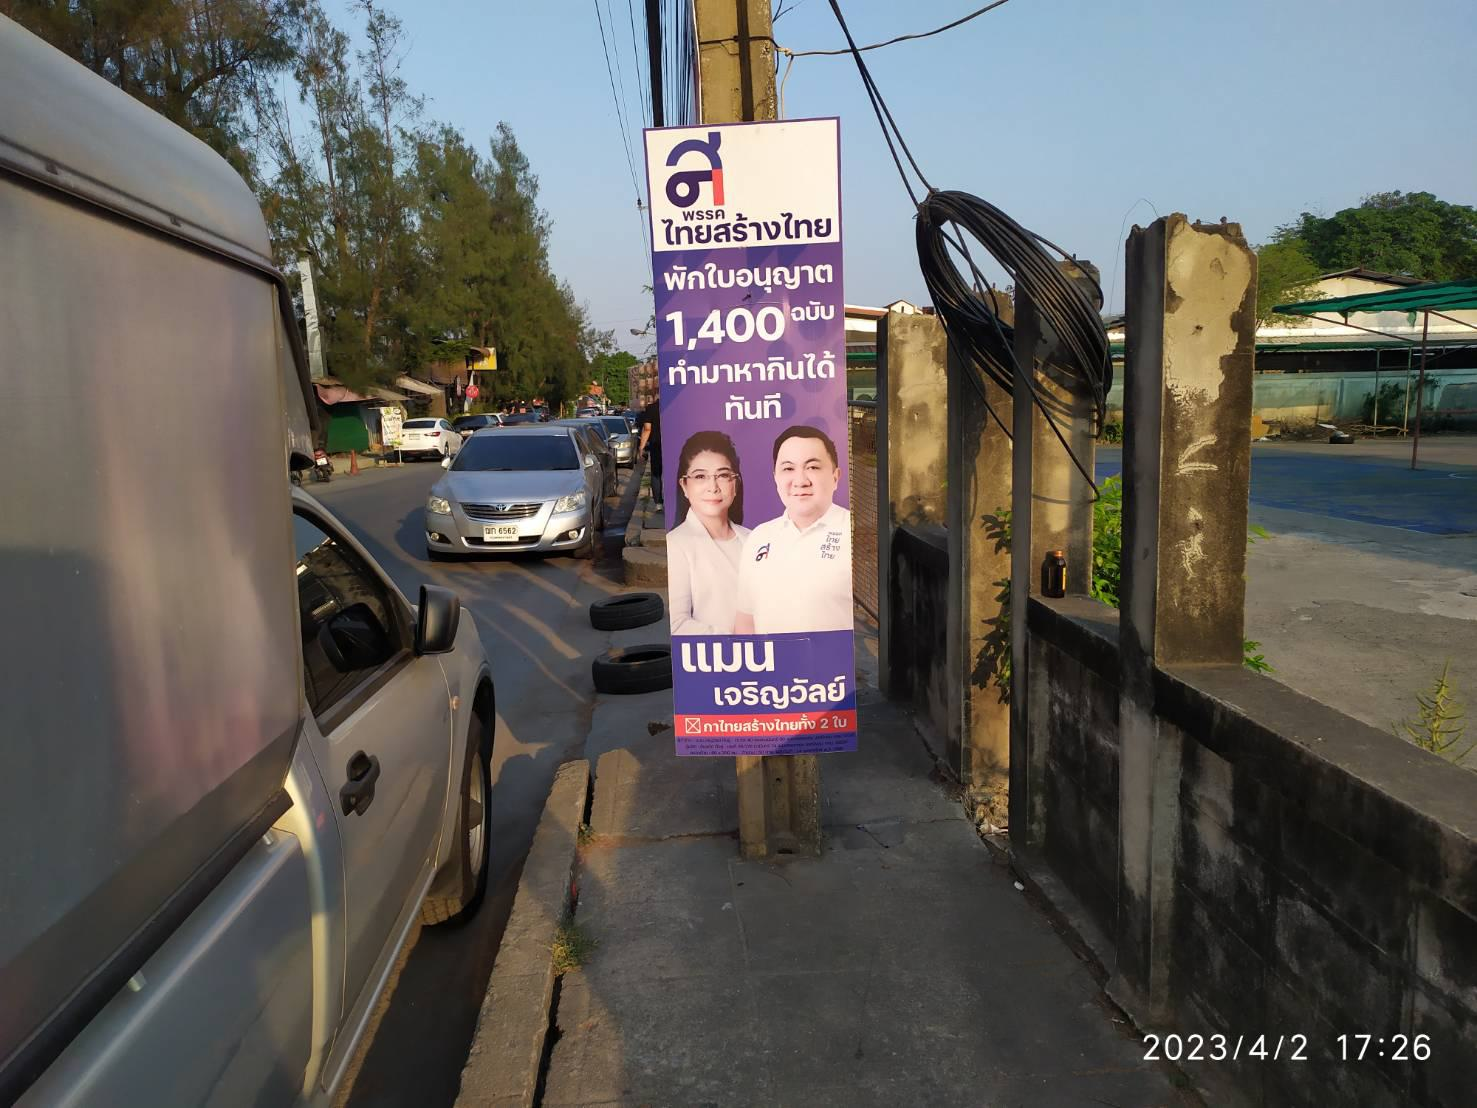Banner: (629, 109, 869, 750)
